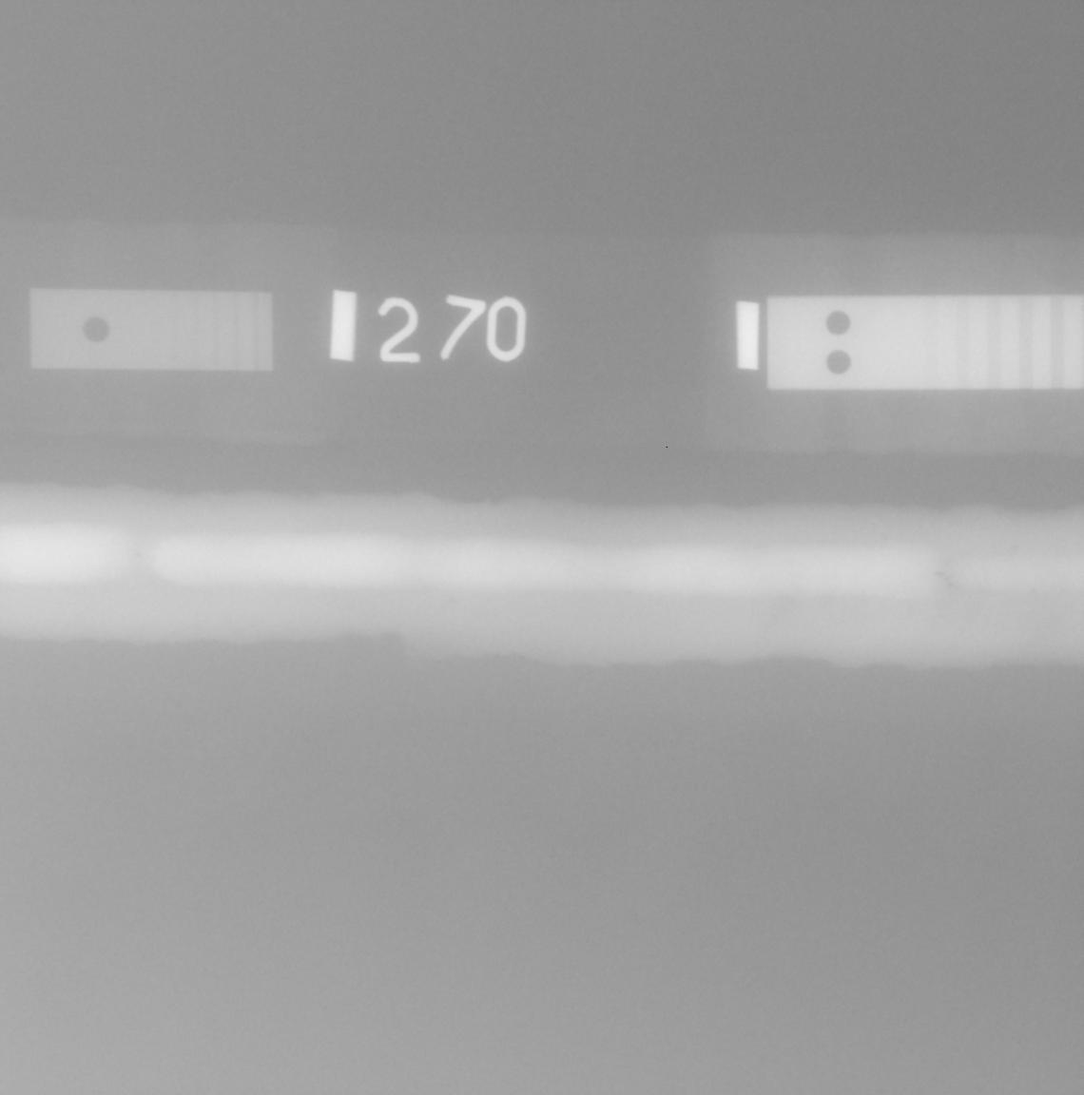Inclusion: (947, 583, 959, 589), (945, 576, 955, 581), (934, 573, 945, 576), (136, 554, 140, 557)
Pore/Porosity: (448, 597, 455, 604), (1011, 545, 1017, 551), (1030, 588, 1036, 593), (882, 536, 888, 540), (626, 591, 631, 595)
Reference Standard 1: (29, 288, 273, 371)
